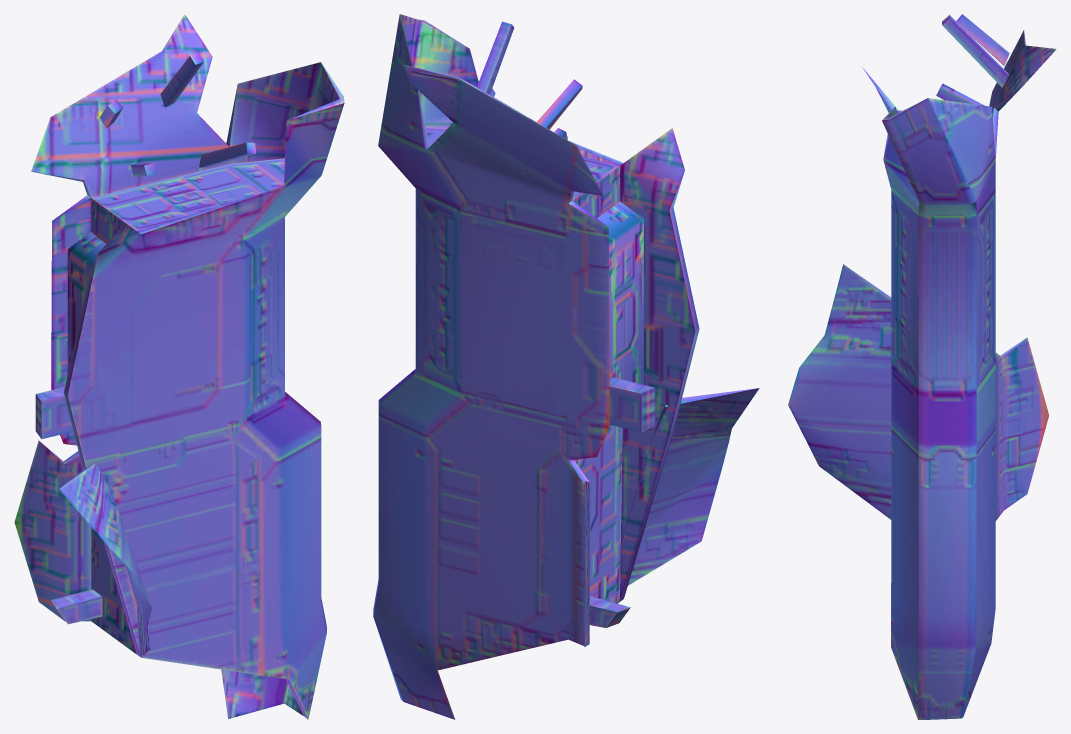
Rendered from ship_debris_02_part_01.glb.
3 renders of one model, left to right at view 1: azimuth 30°, elevation 25°; view 2: azimuth 150°, elevation 25°; view 3: azimuth 270°, elevation 25°, orthographic. The views are drawn at different scales.
Visible parts, largest first — view 1: ship_debris_02_part_01; view 2: ship_debris_02_part_01; view 3: ship_debris_02_part_01.
Boxes of the visible parts, box(x1,y1,x2,y2) form: ship_debris_02_part_01: box(14, 14, 344, 719); ship_debris_02_part_01: box(373, 14, 759, 719); ship_debris_02_part_01: box(788, 14, 1056, 719).
Size of the model in its own units: 3.26 by 6.82 by 2.52.
Materials: 1 (1 with a texture image).
